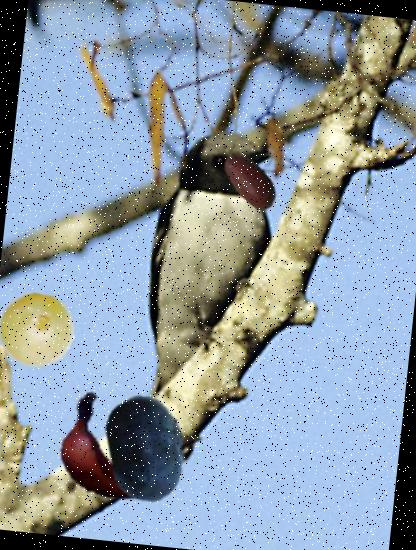Banana: (40, 390, 182, 532)
Blueberry: (87, 389, 206, 508)
Grape: (0, 288, 79, 373)
Potato: (214, 146, 286, 218)
